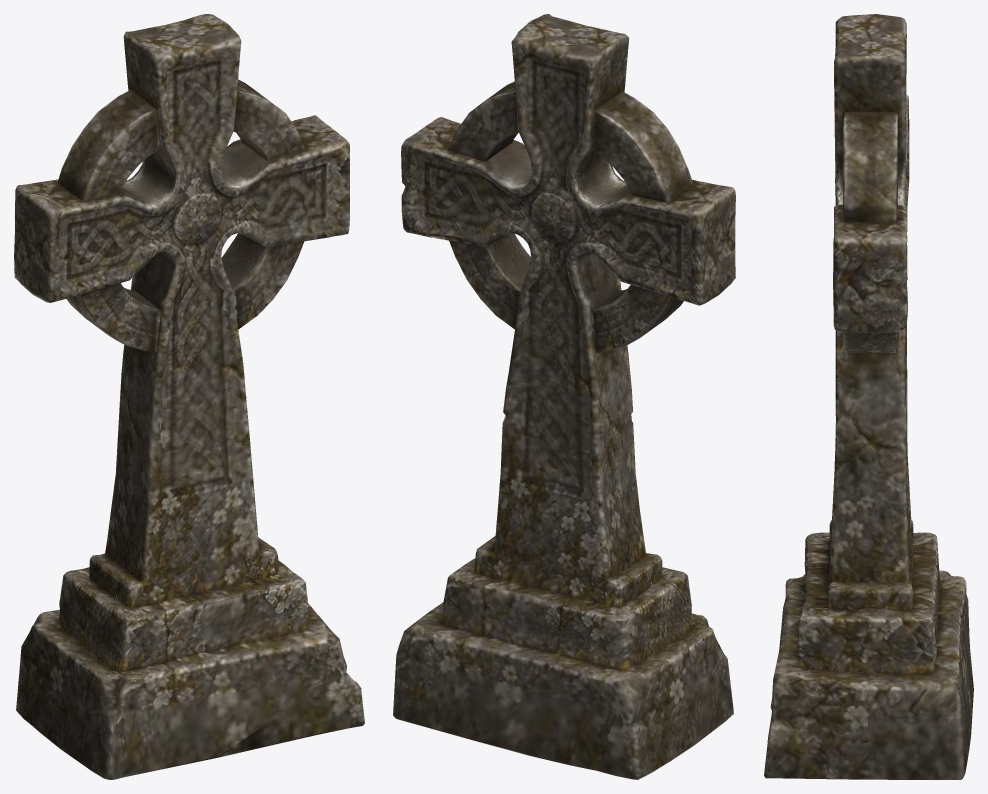
Rendered from h_gravemarker_B.glb.
3 views of the same model, side by side, from view 1: azimuth 30°, elevation 25°; view 2: azimuth 150°, elevation 25°; view 3: azimuth 270°, elevation 25° (orthographic).
Visible parts, largest first — view 1: h_gravemarker_B; view 2: h_gravemarker_B; view 3: h_gravemarker_B.
Boxes of the visible parts, x1,y1,x2,y2 form: h_gravemarker_B: (14,14,364,779); h_gravemarker_B: (393,14,735,779); h_gravemarker_B: (764,14,973,779).
Size of the model in its own units: 0.5479 by 1.18 by 0.3293.
1 material, 1 textured.
